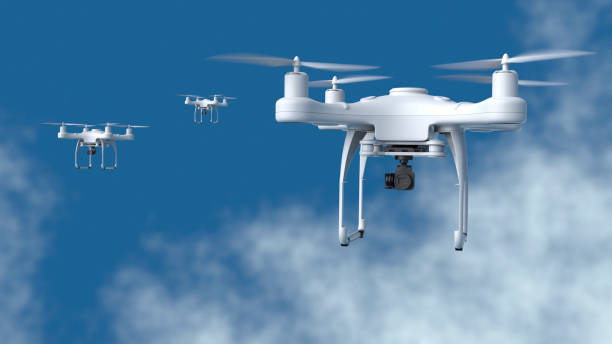Drone: (210, 42, 597, 264), (40, 118, 150, 175), (173, 90, 235, 129)
